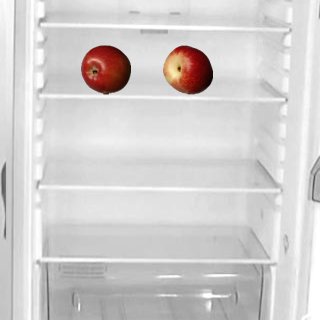Apple Braeburn: (80, 44, 130, 94)
Nectarine: (162, 44, 212, 94)
